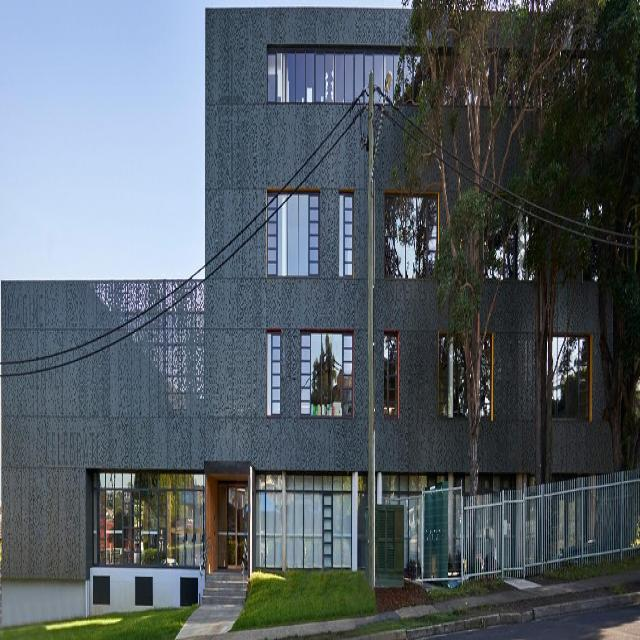door: (217, 482, 246, 569)
railing: (461, 463, 621, 575)
window: (93, 473, 204, 567), (256, 475, 350, 567), (265, 48, 421, 101), (438, 326, 492, 417), (300, 326, 352, 414), (265, 188, 317, 271), (383, 195, 438, 272), (551, 328, 588, 421), (337, 187, 353, 270), (383, 330, 397, 415), (265, 328, 279, 412)
